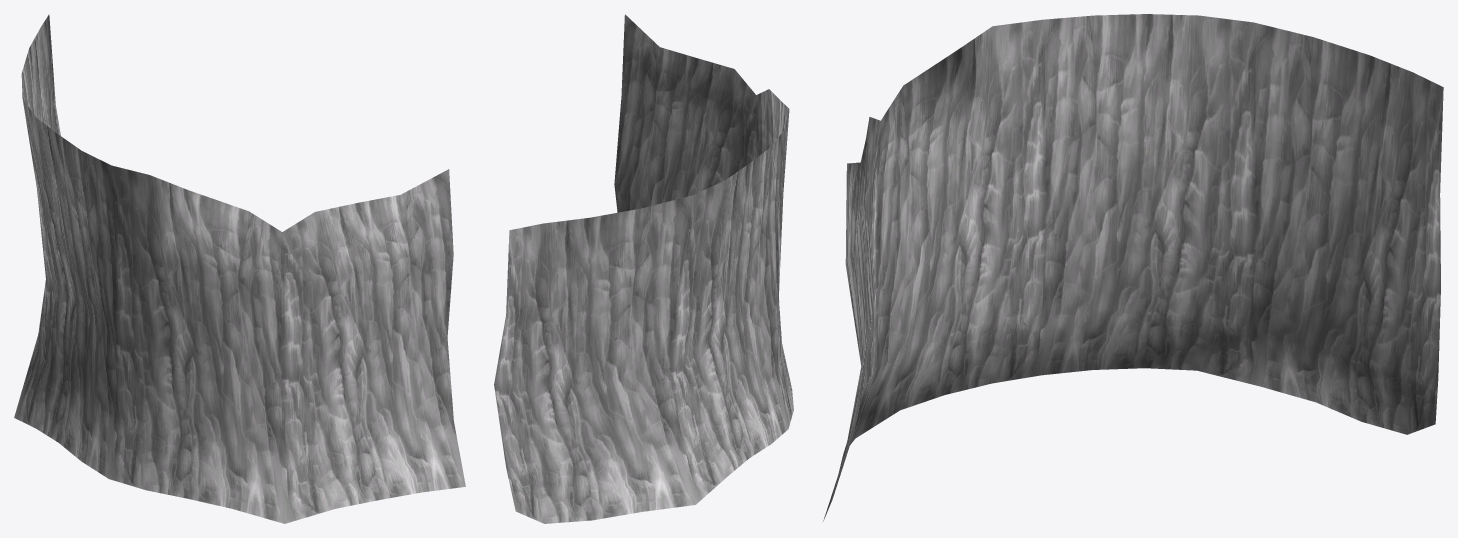
The model's file is SWORDLIGHT20_PS-AREA03_203.fbx.
3 views of the same model, side by side, from view 1: azimuth 30°, elevation 25°; view 2: azimuth 150°, elevation 25°; view 3: azimuth 270°, elevation 25° (orthographic). The views are drawn at different scales.
Parts seen in each view (by area): view 1: SWORDLIGHT20_PS-AREA03_203; view 2: SWORDLIGHT20_PS-AREA03_203; view 3: SWORDLIGHT20_PS-AREA03_203.
Boxes of the visible parts, left/top/right/bottom form: SWORDLIGHT20_PS-AREA03_203: left=14, top=14, right=465, bottom=523; SWORDLIGHT20_PS-AREA03_203: left=494, top=14, right=793, bottom=523; SWORDLIGHT20_PS-AREA03_203: left=823, top=14, right=1443, bottom=521.
Bounding box in the file's own units: 85379 × 98945 × 150130.
1 material, 1 textured.
